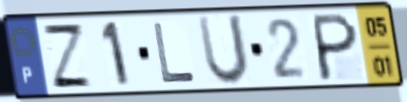1: (100, 19, 133, 90)
2: (266, 16, 309, 82)
L: (150, 21, 199, 85)
P: (312, 11, 360, 84)
U: (194, 12, 252, 88)
Z: (39, 22, 96, 90)
